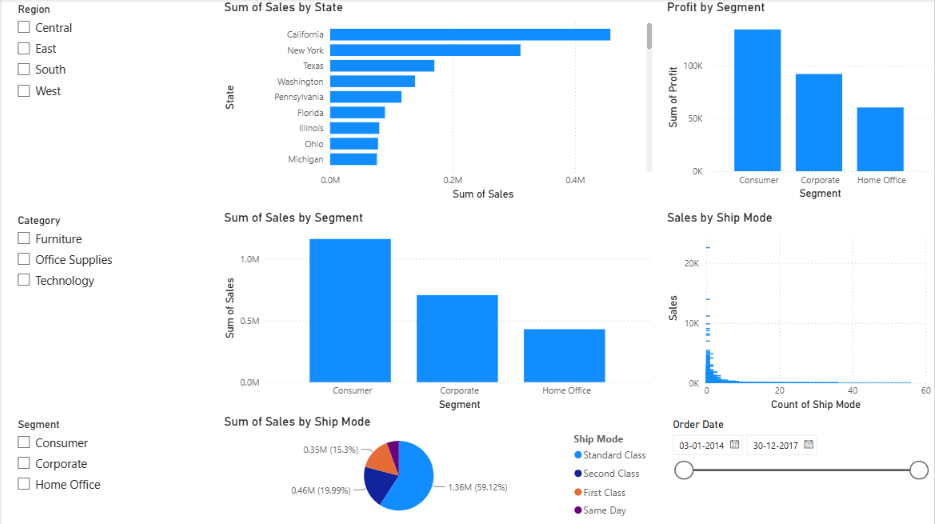

This screenshot's page, from the dashboard's own definition file:
{"tool":"powerbi","page":{"name":"Interactive Dashboard","canvas":[1280,720],"ordinal":1},"visuals":[{"type":"slicer","fields":{"Values":["Cleaned_Superstore.Region"]},"box":[10,0,280,280],"z":0},{"type":"slicer","fields":{"Values":["Cleaned_Superstore.Category"]},"box":[10,290,280,280],"z":1000},{"type":"slicer","fields":{"Values":["Cleaned_Superstore.Segment"]},"box":[10,570,280,150],"z":2000},{"type":"clusteredBarChart","fields":{"Category":["Cleaned_Superstore.State"],"Y":["Sum(Cleaned_Superstore.Sales)"]},"box":[300,0,597.8,280.2],"z":3000},{"type":"clusteredColumnChart","fields":{"Category":["Cleaned_Superstore.Segment"],"Y":["Sum(Cleaned_Superstore.Sales)"]},"box":[300,290,598,280],"z":4000},{"type":"pieChart","fields":{"Category":["Cleaned_Superstore.Ship Mode"],"Y":["Sum(Cleaned_Superstore.Sales)"]},"box":[300,570,598,150],"z":5000},{"type":"clusteredColumnChart","title":"Profit by Segment","fields":{"Category":["Cleaned_Superstore.Segment"],"Y":["Sum(Cleaned_Superstore.Profit)"]},"box":[908,0,372,280],"z":5001},{"type":"clusteredBarChart","title":"Sales by Ship Mode","fields":{"Y":["CountNonNull(Cleaned_Superstore.Ship Mode)"],"Category":["Cleaned_Superstore.Sales"]},"box":[908,290,372,280],"z":5002},{"type":"slicer","fields":{"Values":["Cleaned_Superstore.Order Date"]},"box":[908,570,372,150],"z":5003}]}

Visuals, with their boxes in screenshot pixels (x1, y1, x2, y2), scaled from the page's 1280x720 canvas onto the 935x524 screenshot:
slicer - Cleaned_Superstore.Region: 7 0 212 204
slicer - Cleaned_Superstore.Category: 7 211 212 415
slicer - Cleaned_Superstore.Segment: 7 415 212 523
clusteredBarChart - Cleaned_Superstore.State x Sum(Cleaned_Superstore.Sales): 219 0 656 204
clusteredColumnChart - Cleaned_Superstore.Segment x Sum(Cleaned_Superstore.Sales): 219 211 656 415
pieChart - Cleaned_Superstore.Ship Mode x Sum(Cleaned_Superstore.Sales): 219 415 656 523
"Profit by Segment" clusteredColumnChart: 663 0 934 204
"Sales by Ship Mode" clusteredBarChart: 663 211 934 415
slicer - Cleaned_Superstore.Order Date: 663 415 934 523
